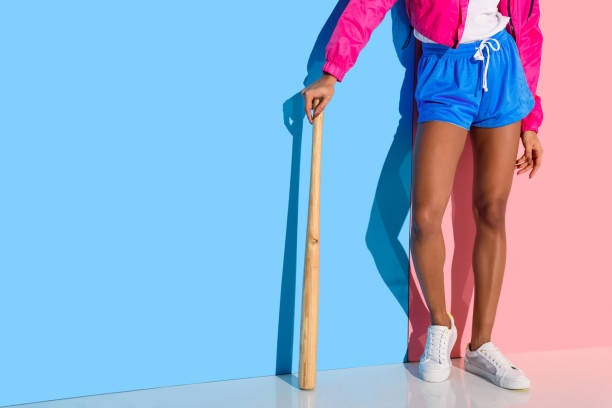bita: (292, 92, 329, 390)
